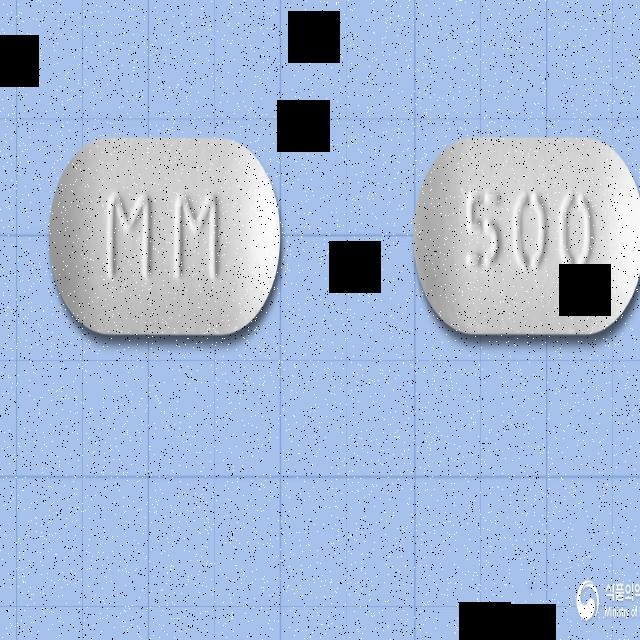Amoclan Duo: (46, 132, 284, 340), (413, 135, 640, 336)
